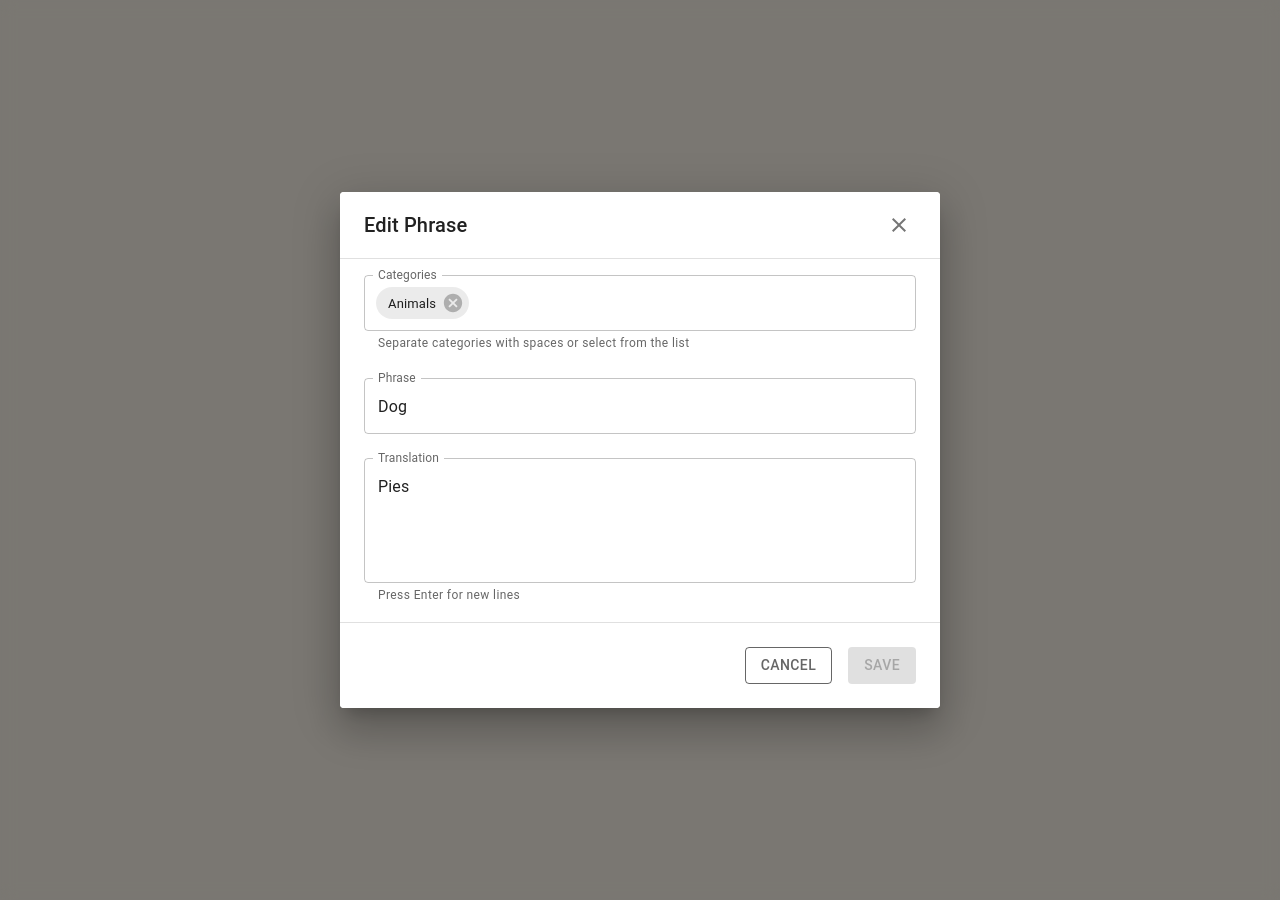
Test: EditPhraseDialog component › save button is enabled when changes are made
Note: Wait for form to be ready and make a change
Replace the text in the field showing "Dog" with "Doggy" at (640, 406), box top-left (364, 378), bottom-right (916, 434)
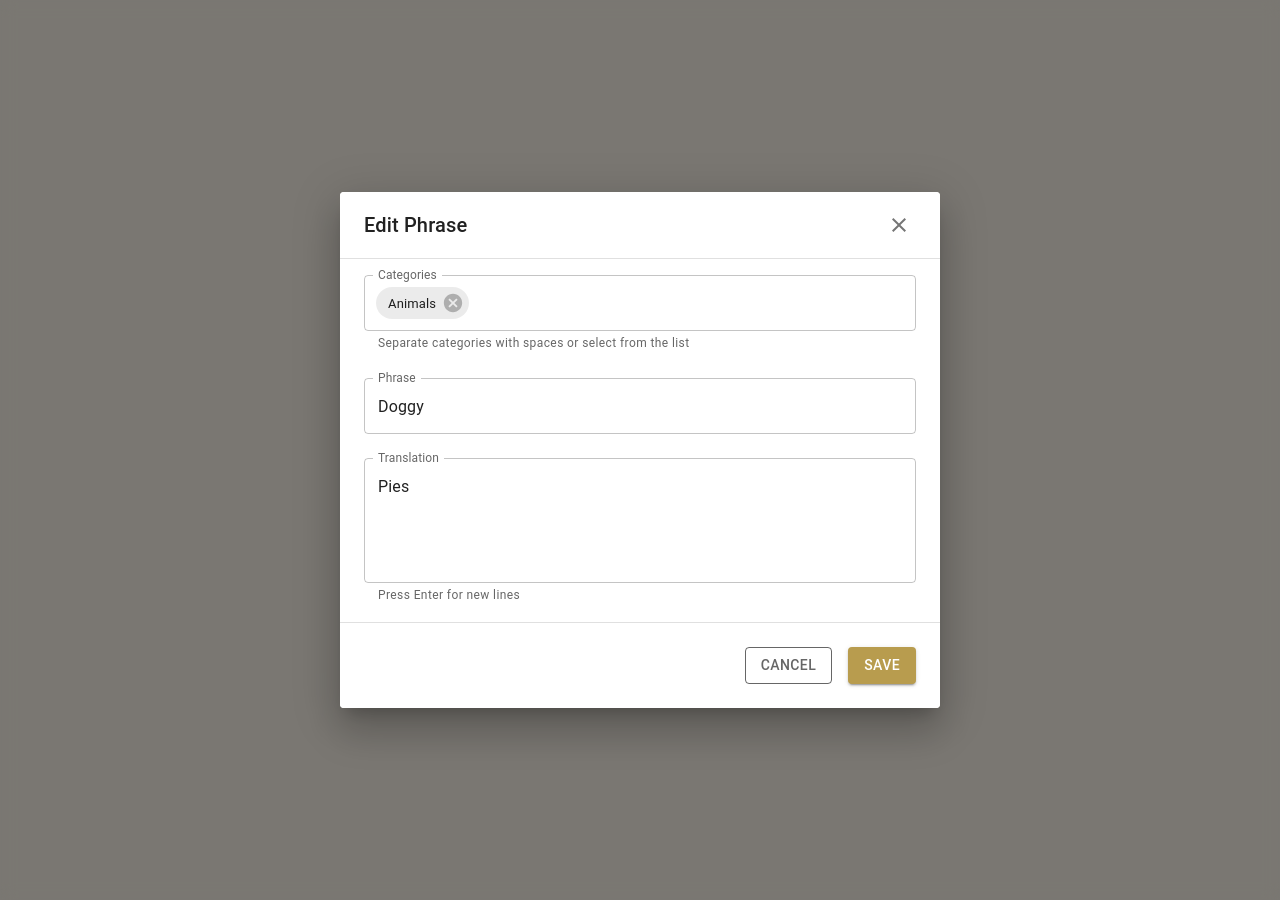
Expected: the button "Save" is enabled, top-left (848, 647), bottom-right (916, 684)
